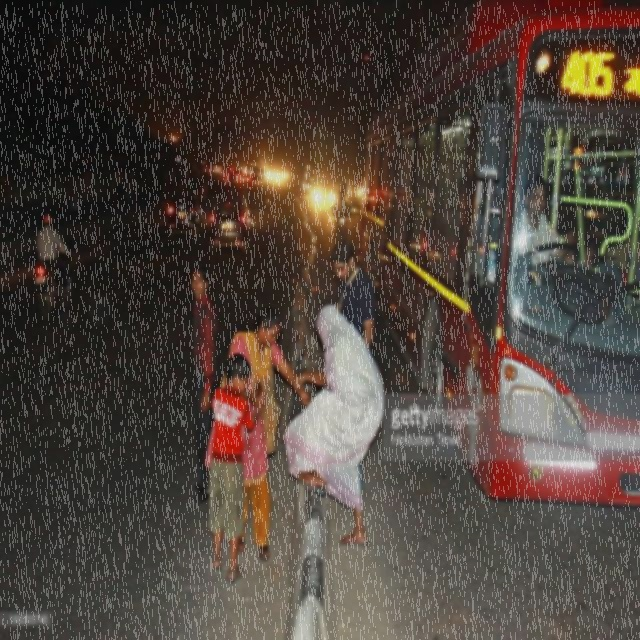pessoa: (221, 301, 313, 562), (292, 304, 386, 550), (208, 351, 266, 585), (187, 259, 220, 505), (516, 172, 576, 266), (329, 234, 377, 350), (34, 212, 70, 299), (561, 224, 607, 276), (326, 175, 359, 234)
